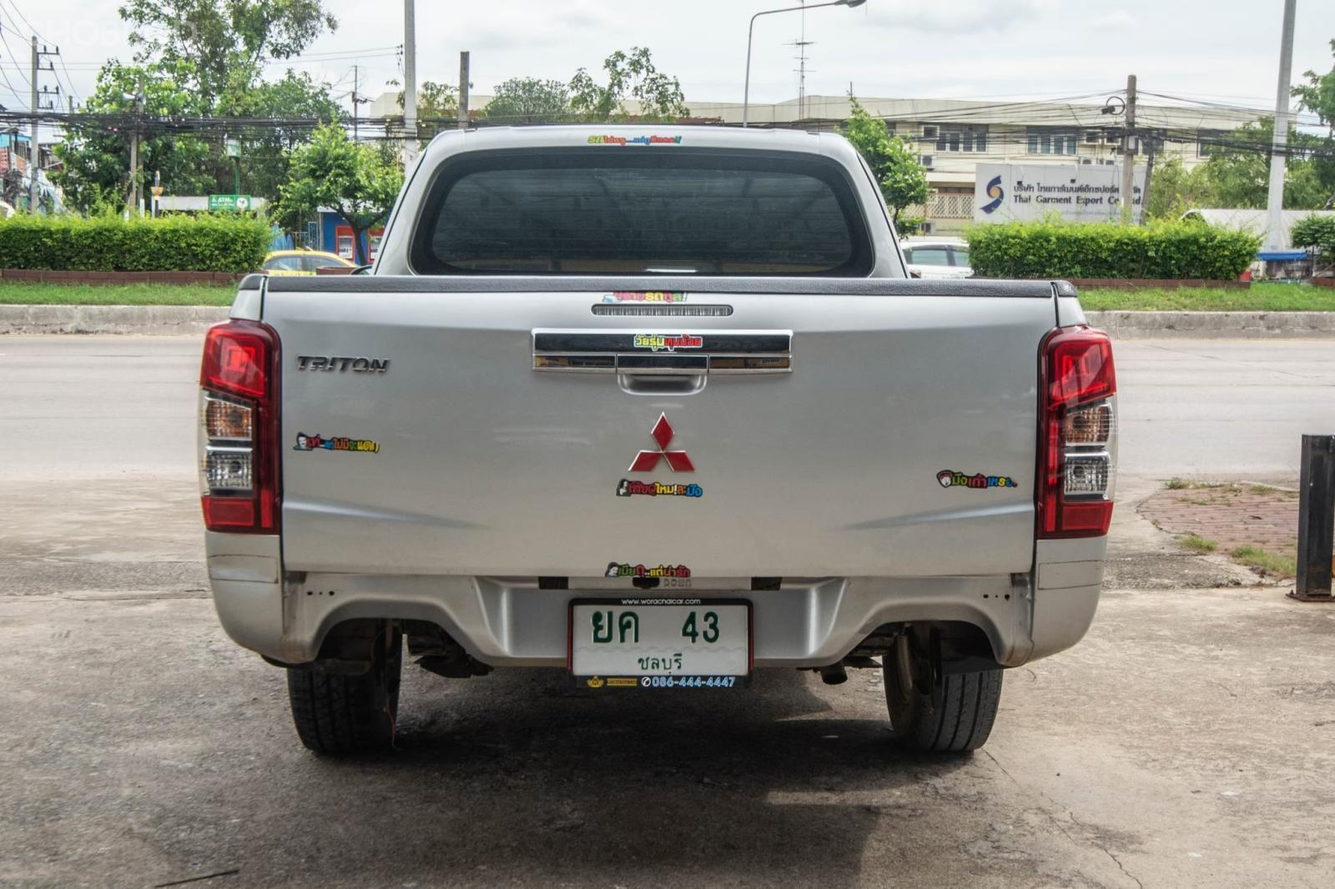license-plate: (566, 592, 756, 691)
